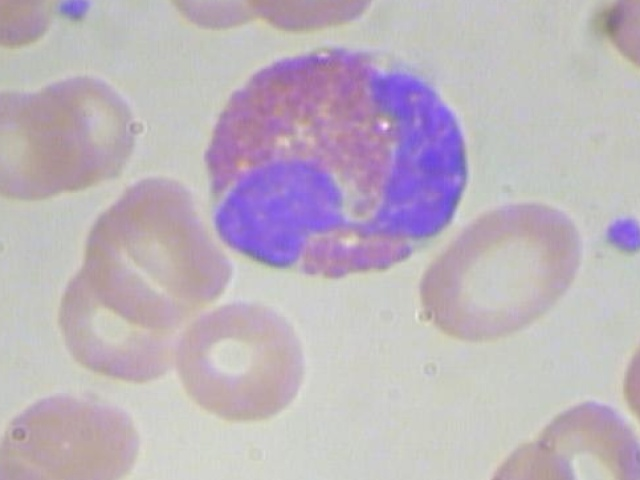Platelets: (587, 207, 640, 266), (48, 0, 96, 30)
RBC: (409, 185, 590, 354), (169, 290, 316, 430), (0, 375, 145, 480), (0, 75, 97, 215), (241, 0, 387, 42), (0, 0, 68, 55), (617, 318, 640, 444)
WBC: (192, 33, 485, 291)
